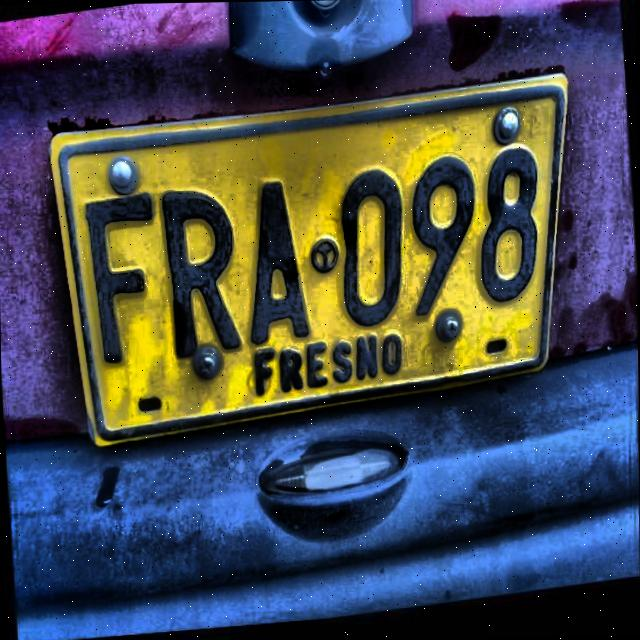0: (334, 159, 406, 332)
8: (475, 138, 548, 310)
9: (403, 146, 486, 318)
A: (236, 171, 315, 350)
F: (75, 187, 161, 377)
R: (154, 176, 245, 365)
